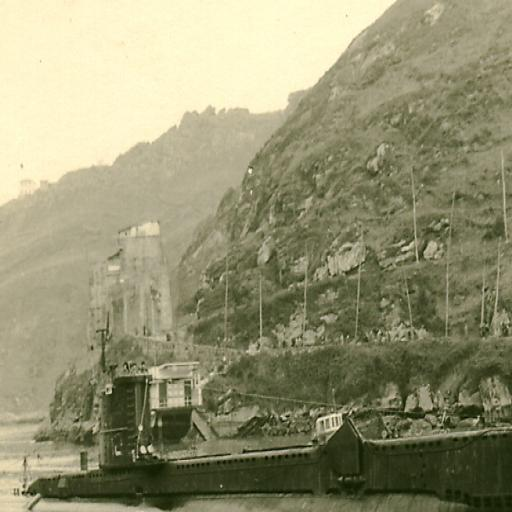submarine: (21, 376, 512, 512)
